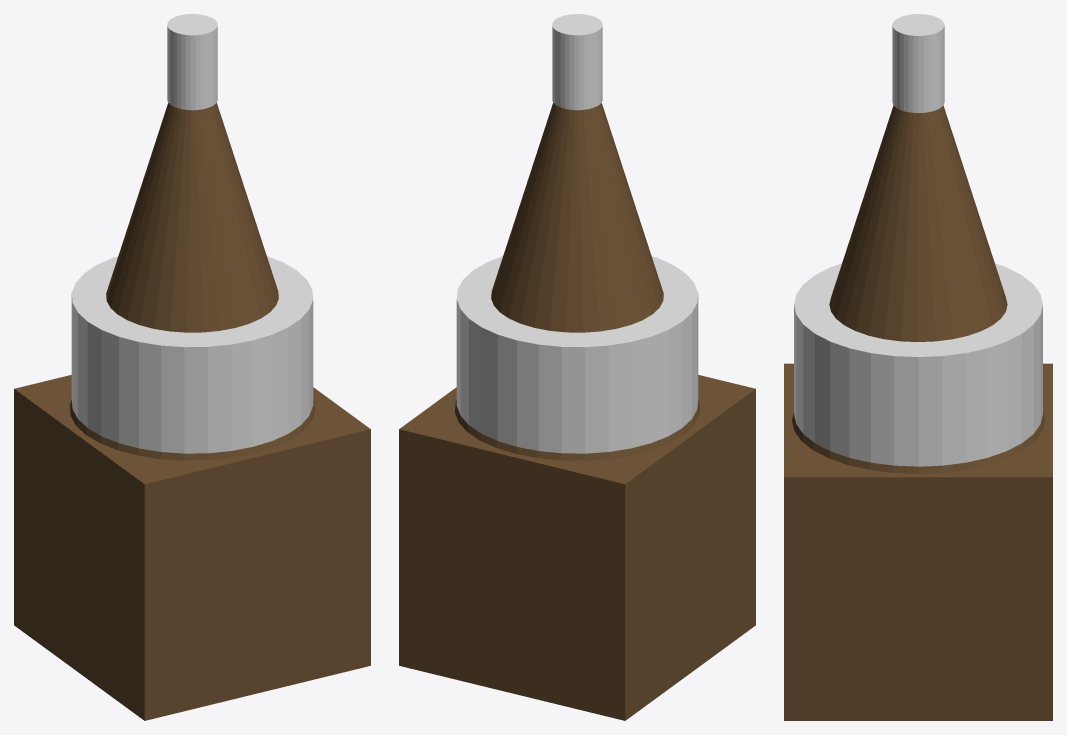
File: fyrtøjetscene.fbx
3 renders of one model, left to right at view 1: azimuth 30°, elevation 25°; view 2: azimuth 150°, elevation 25°; view 3: azimuth 270°, elevation 25°, orthographic. The views are drawn at different scales.
Parts seen in each view (by area): view 1: Cube, Cylinder, Cone, Cylinder.001; view 2: Cube, Cylinder, Cone, Cylinder.001; view 3: Cube, Cylinder, Cone, Cylinder.001.
Boxes of the visible parts, x1,y1,x2,y2 form: Cube: [14, 375, 370, 720]; Cylinder: [71, 256, 313, 453]; Cone: [69, 102, 315, 460]; Cylinder.001: [167, 14, 217, 110]; Cube: [399, 375, 755, 720]; Cylinder: [456, 256, 698, 453]; Cone: [454, 102, 700, 460]; Cylinder.001: [552, 14, 602, 110]; Cube: [784, 363, 1052, 720]; Cylinder: [794, 263, 1042, 466]; Cone: [792, 105, 1044, 473]; Cylinder.001: [892, 14, 944, 112].
Size of the model in its own units: 1804 by 4733 by 1804.
